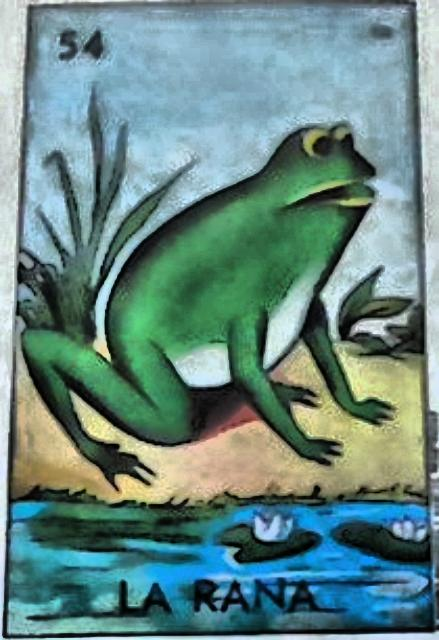La Rana: (5, 8, 435, 637)
